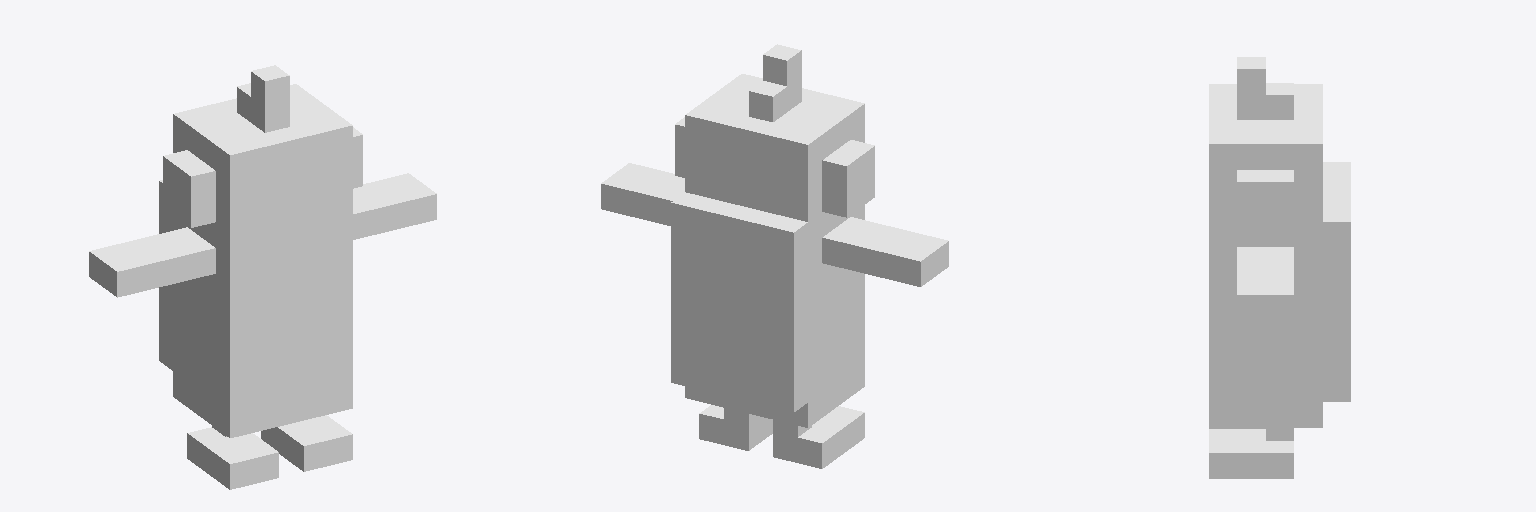
The model's file is penguin_blue3.obj.
3 views of the same model, side by side, from view 1: azimuth 30°, elevation 25°; view 2: azimuth 150°, elevation 25°; view 3: azimuth 270°, elevation 25° (orthographic).
Parts seen in each view (by area): view 1: penguin_blue3; view 2: penguin_blue3; view 3: penguin_blue3.
Boxes of the visible parts, box(x1,y1,x2,y2) form: penguin_blue3: box(89, 65, 436, 489); penguin_blue3: box(601, 44, 948, 468); penguin_blue3: box(1209, 57, 1350, 478).
Bounding box in the file's own units: 13 × 15 × 5.